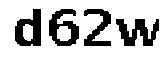2: (83, 5, 114, 52)
6: (47, 6, 83, 49)
d: (10, 5, 45, 52)
w: (114, 13, 160, 55)
